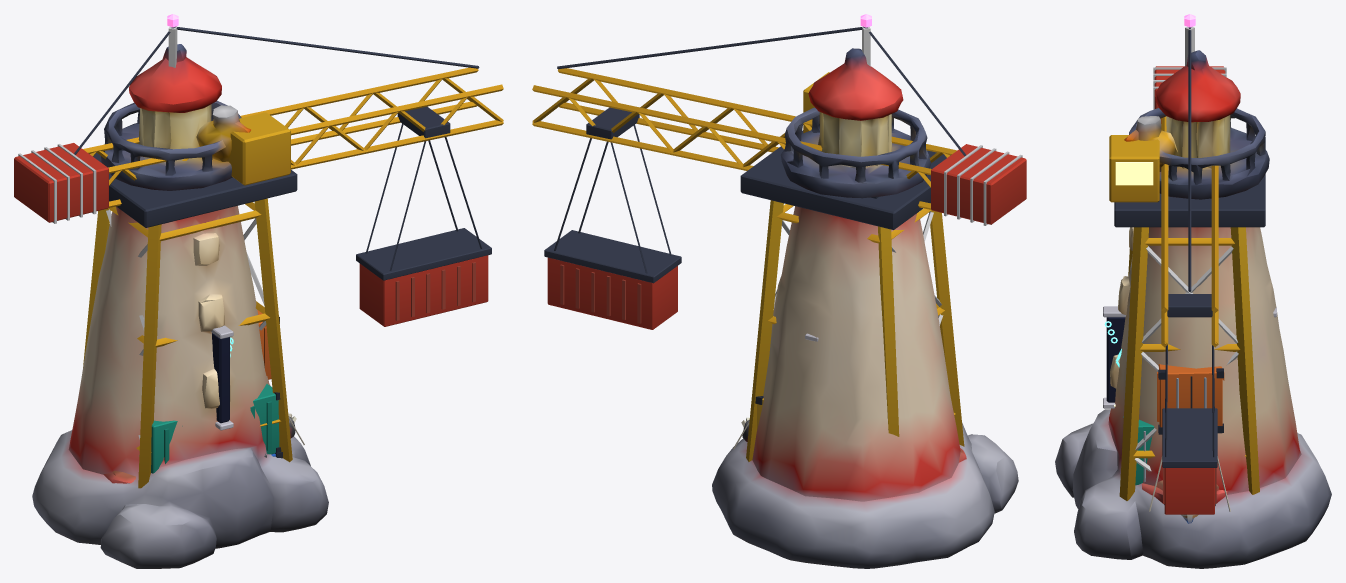
File: scenery-harbour.glb
3 renders of one model, left to right at view 1: azimuth 30°, elevation 25°; view 2: azimuth 150°, elevation 25°; view 3: azimuth 270°, elevation 25°, orthographic.
Parts seen in each view (by area): view 1: prop-lighthouse, prop-crane, prop-container_stack, prop-neon_sign; view 2: prop-lighthouse, prop-crane; view 3: prop-lighthouse, prop-crane, prop-container_stack, prop-neon_sign, prop-tugboat.
Boxes of the visible parts, <box> form: prop-lighthouse: <box>32,44,328,568</box>; prop-crane: <box>14,14,503,488</box>; prop-container_stack: <box>151,310,282,473</box>; prop-neon_sign: <box>211,325,233,430</box>; prop-lighthouse: <box>712,48,1018,568</box>; prop-crane: <box>532,14,1026,461</box>; prop-lighthouse: <box>1055,50,1331,568</box>; prop-crane: <box>1109,14,1265,514</box>; prop-container_stack: <box>1123,364,1224,485</box>; prop-neon_sign: <box>1103,306,1276,408</box>; prop-tugboat: <box>1142,480,1227,505</box>.
Size of the model in its own units: 21.07 by 22.68 by 10.98.
